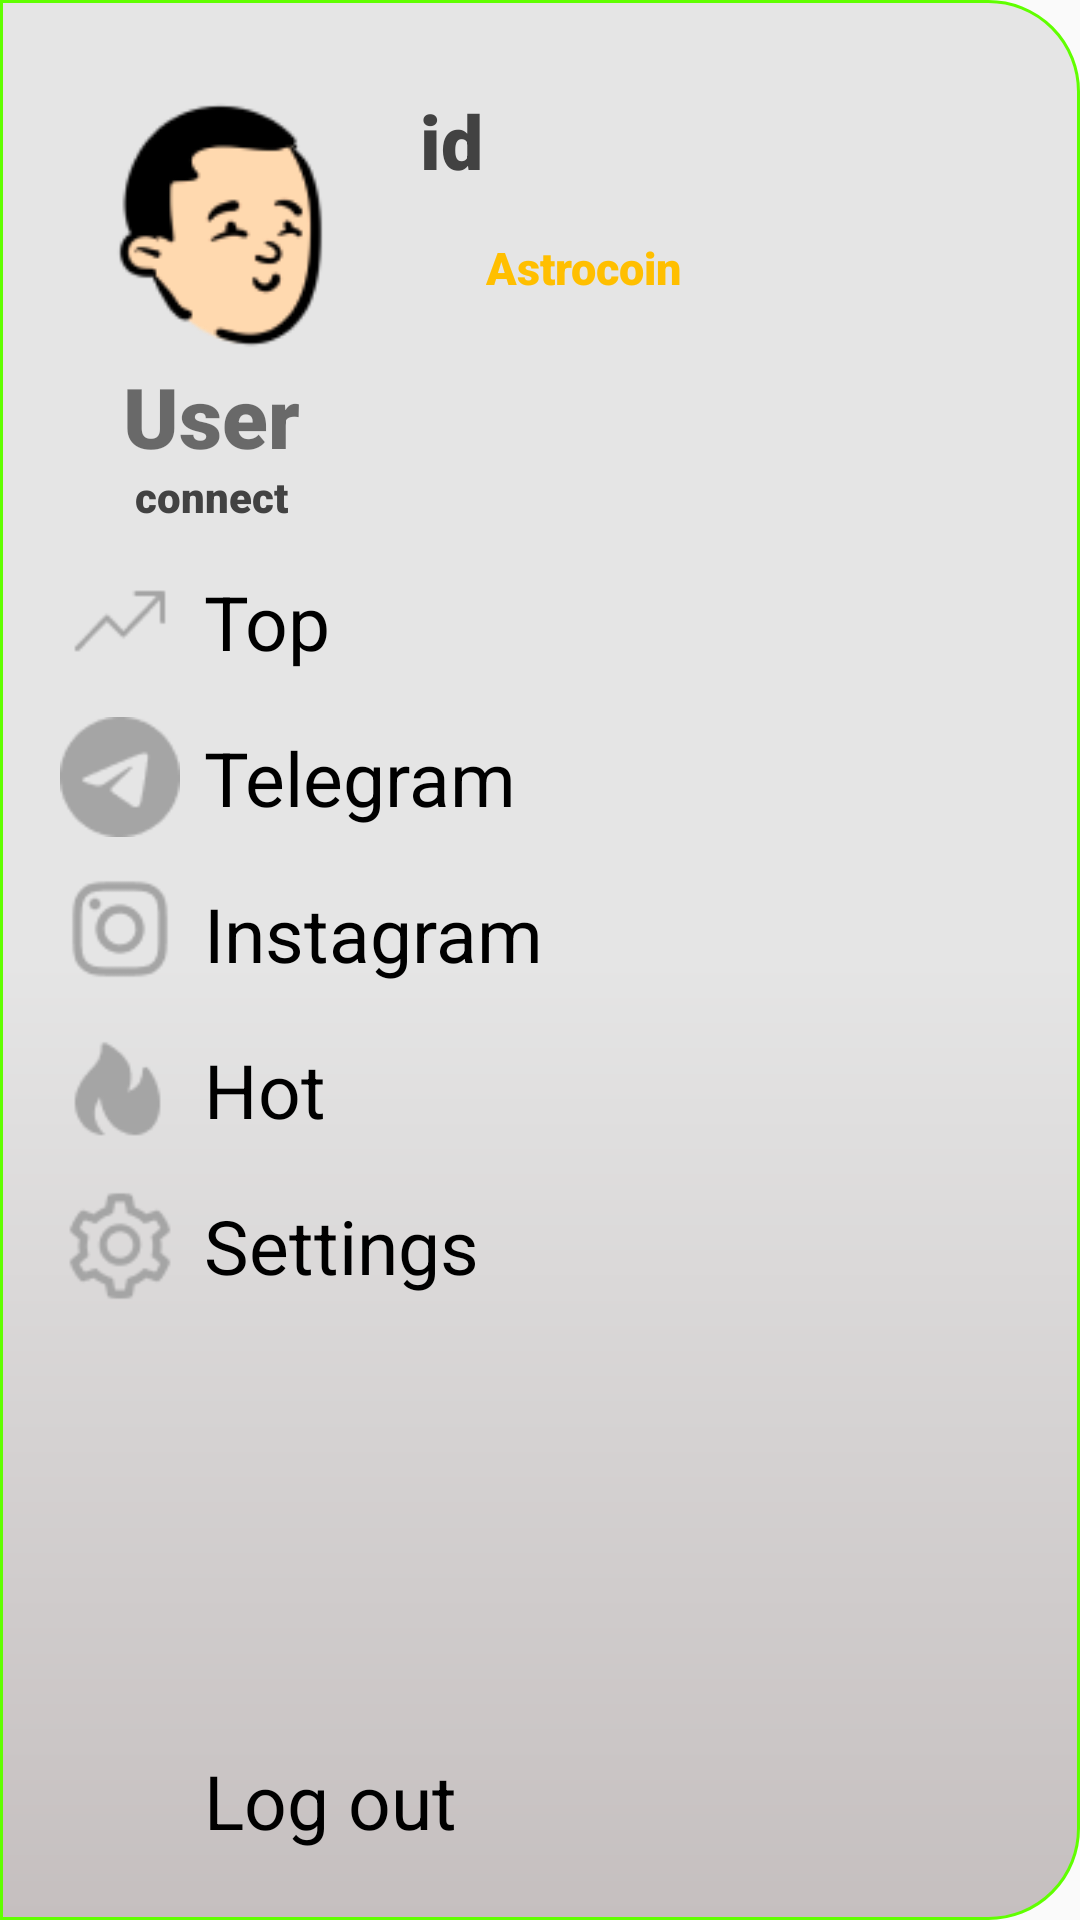

Named icons in this screenshot (1080×1920) and their bounding boxes, [left=x1, top=y1, right=x2, bottom=y2]:
imgehot: [left=75, top=1043, right=160, bottom=1135]
imgemale: [left=119, top=105, right=322, bottom=346]
imgetop: [left=75, top=591, right=165, bottom=651]
